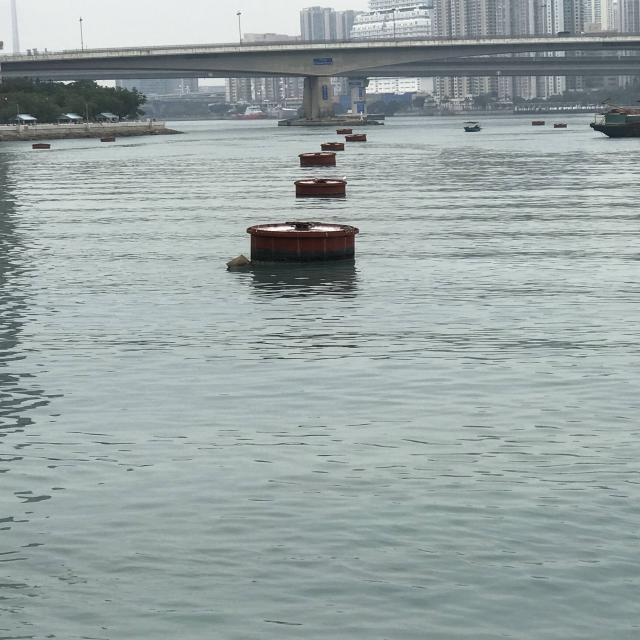ship: (584, 95, 640, 154)
